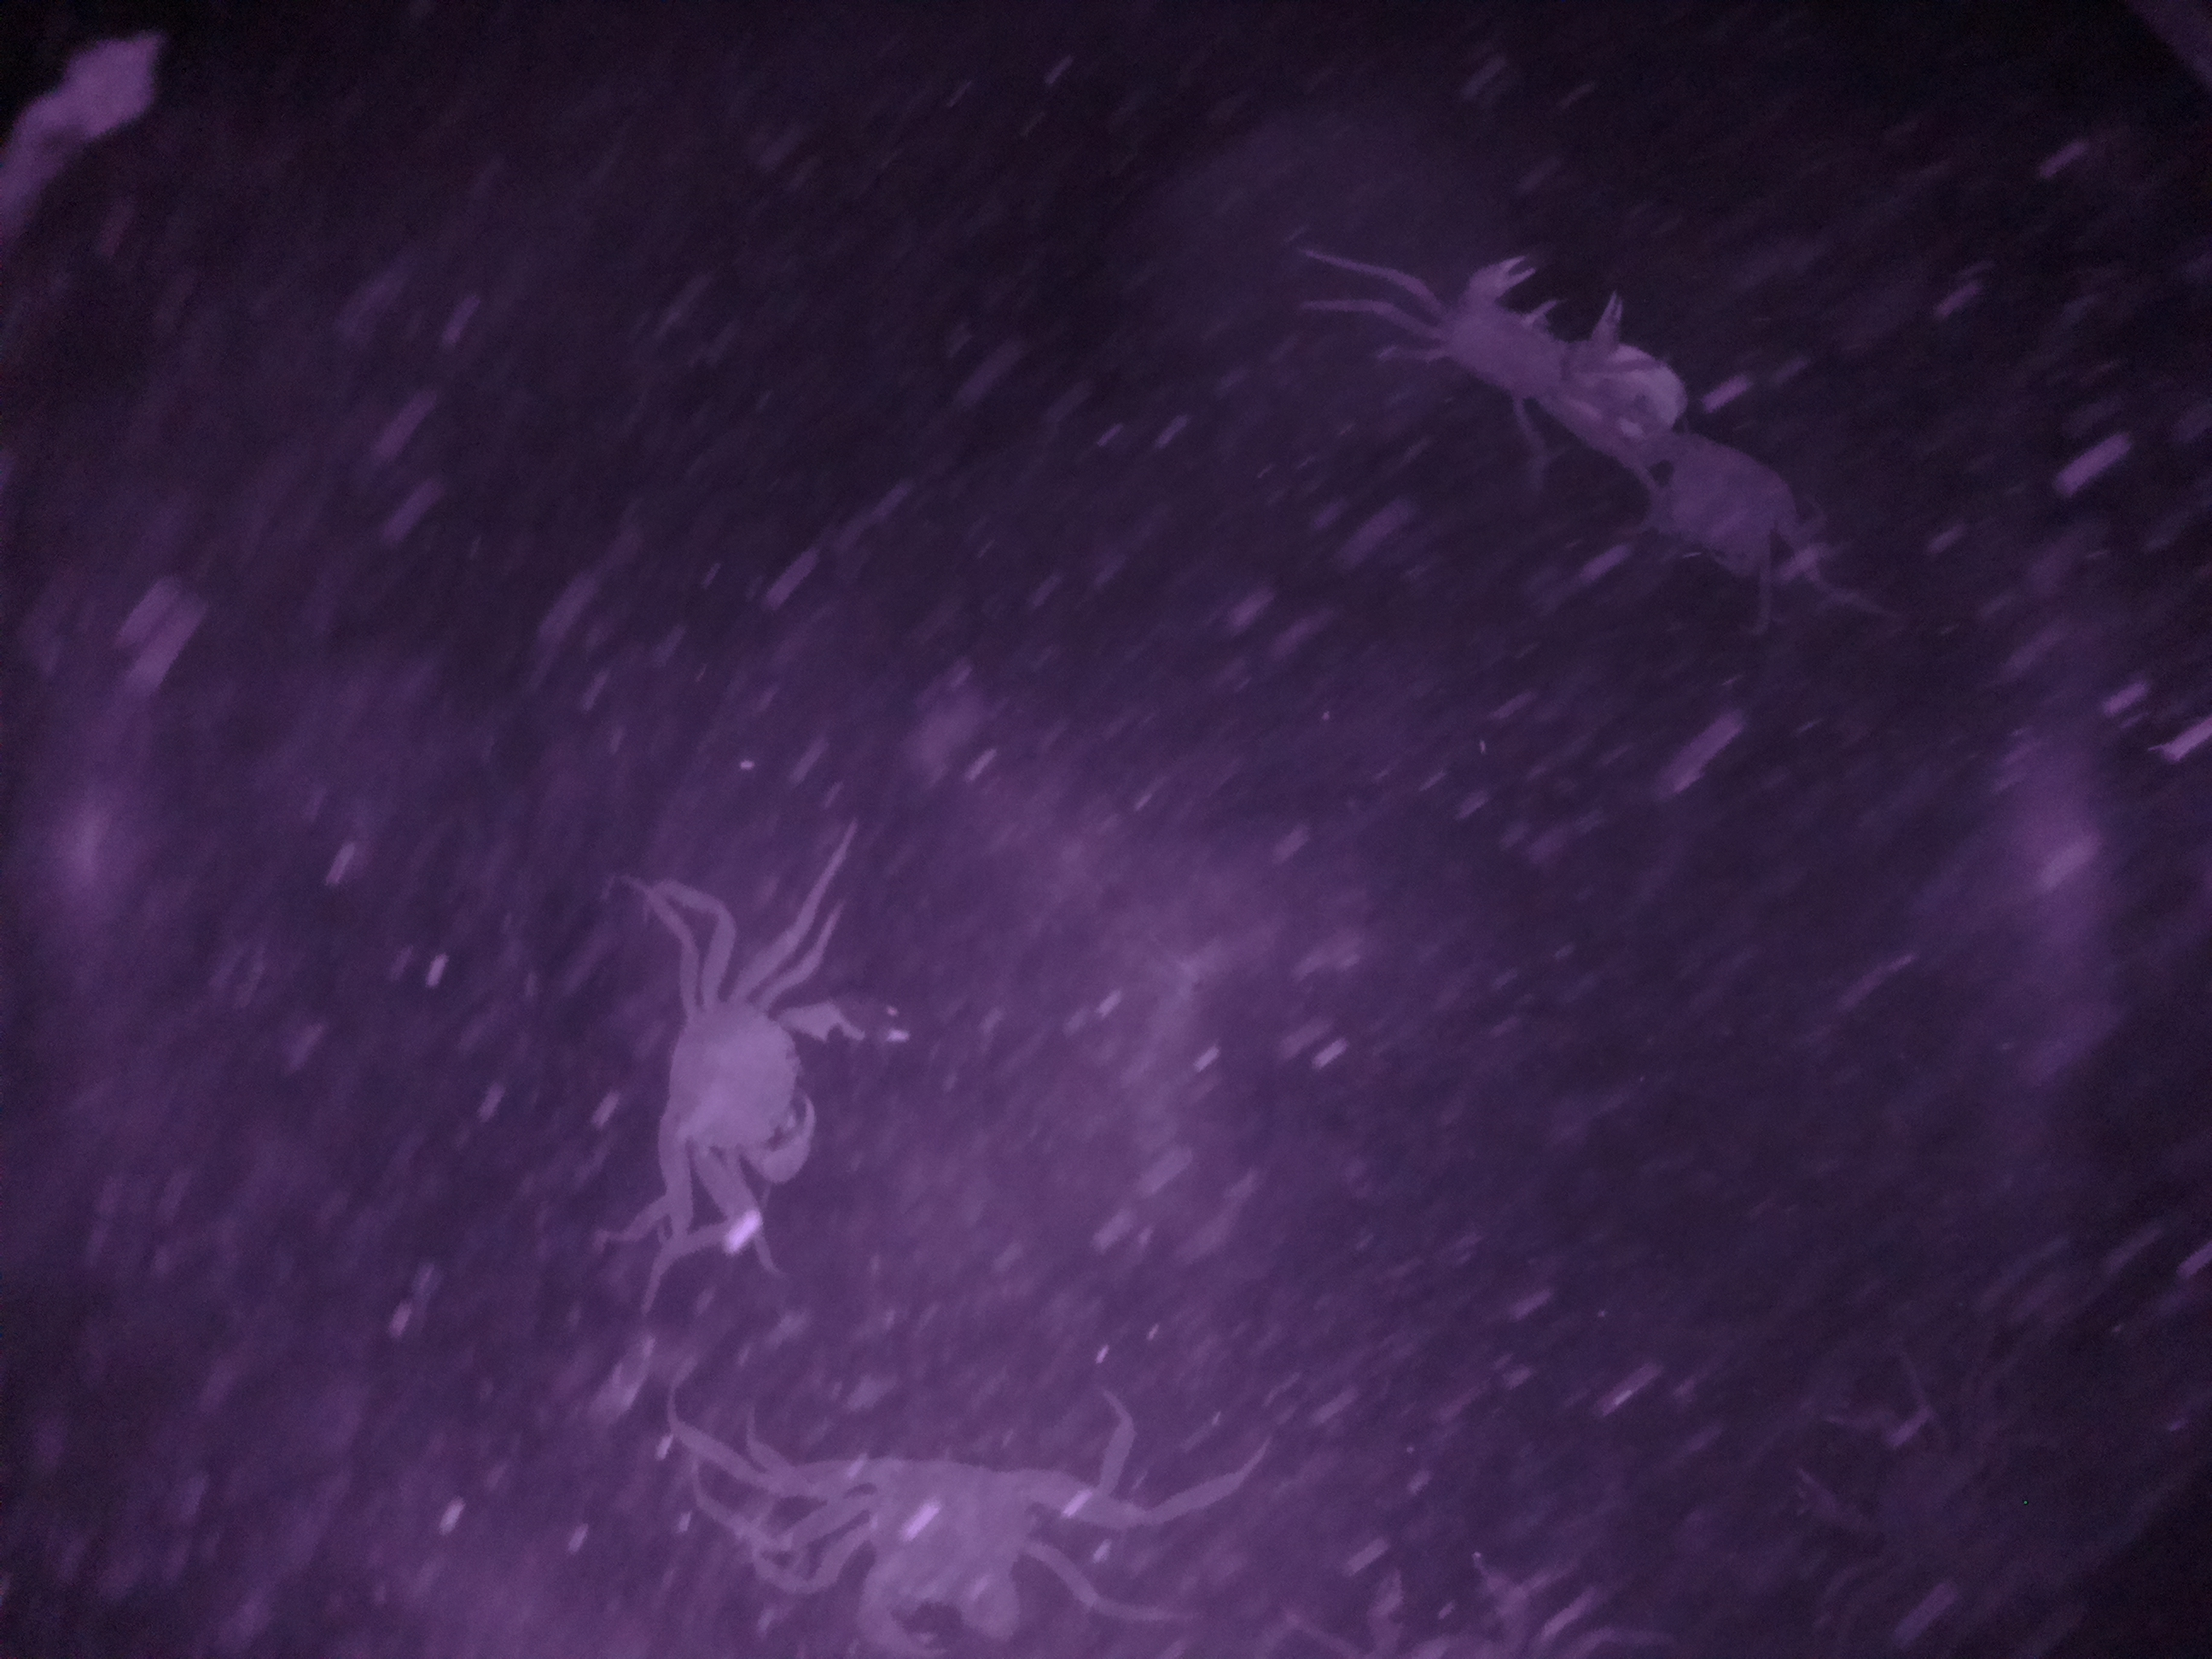Crab: (629, 948, 967, 1229), (787, 1403, 1089, 1659), (1416, 227, 1646, 451)
